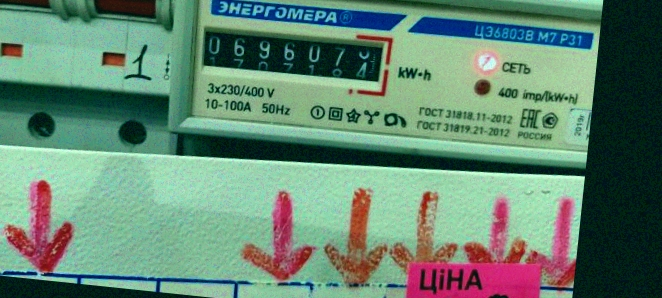0: (305, 40, 323, 64), (206, 33, 222, 55)
4: (354, 58, 369, 81)
6: (231, 35, 247, 57), (281, 40, 297, 61)
7: (330, 45, 347, 67)
9: (256, 37, 271, 59)
screen: (187, 14, 398, 94)
